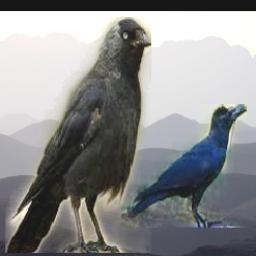Crow: (4, 18, 150, 254), (120, 104, 246, 228)
